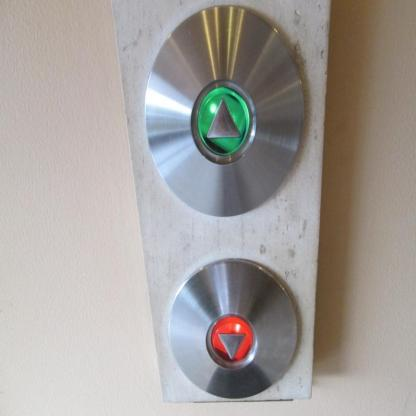down: (167, 254, 303, 401)
up: (143, 3, 307, 219)
